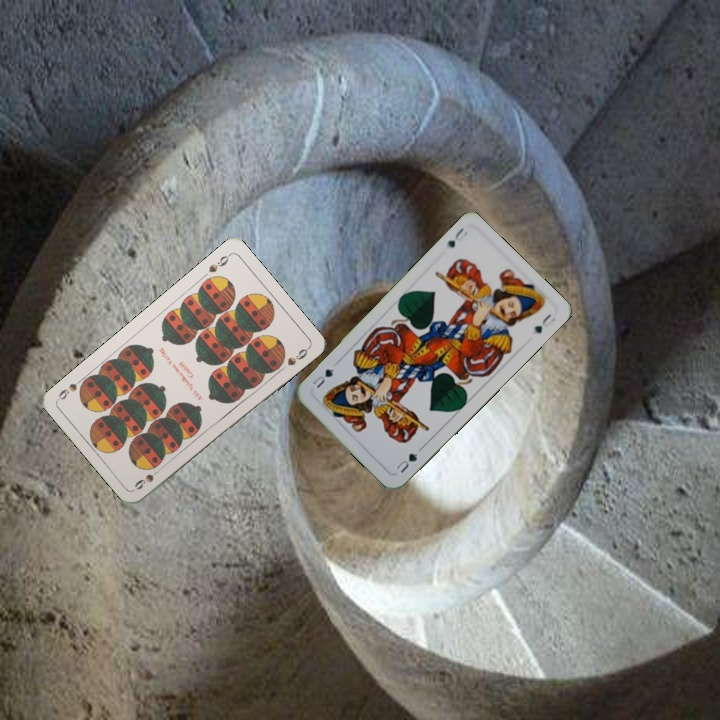GU: (392, 449, 421, 476), (443, 223, 471, 250)
S9: (130, 462, 165, 492), (204, 250, 233, 275)
